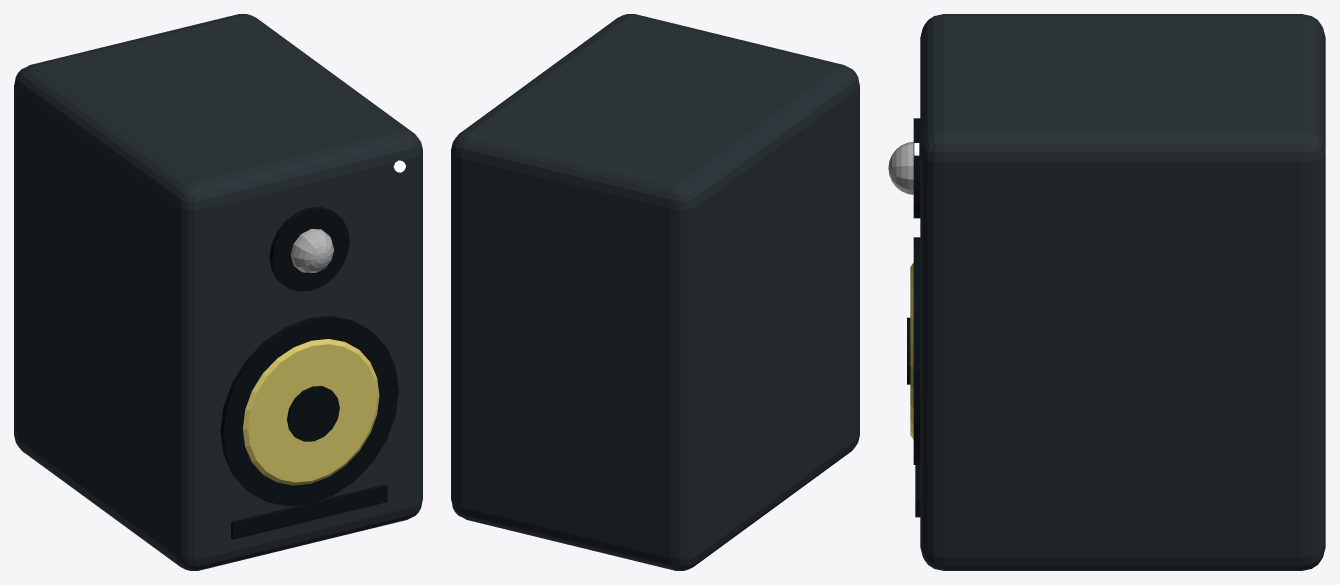
The model's file is studioMonitor.glb.
The picture shows the model from 3 angles, left to right: view 1: azimuth 30°, elevation 25°; view 2: azimuth 150°, elevation 25°; view 3: azimuth 270°, elevation 25°; orthographic projection. The views are drawn at different scales.
Visible parts, largest first — view 1: #252E33, #070F14, #E0D06A, #B3B3B3; view 2: #252E33; view 3: #252E33, #070F14, #B3B3B3, #E0D06A.
Part boxes in pixels (x1,y1,x2,y2): #252E33: (14, 14, 422, 570); #070F14: (220, 207, 398, 539); #E0D06A: (243, 339, 379, 485); #B3B3B3: (290, 229, 333, 272); #252E33: (451, 14, 859, 570); #252E33: (920, 14, 1325, 570); #070F14: (907, 118, 920, 517); #B3B3B3: (888, 141, 913, 194); #E0D06A: (910, 263, 913, 439).
Size of the model in its own units: 0.19 by 0.287 by 0.26.
